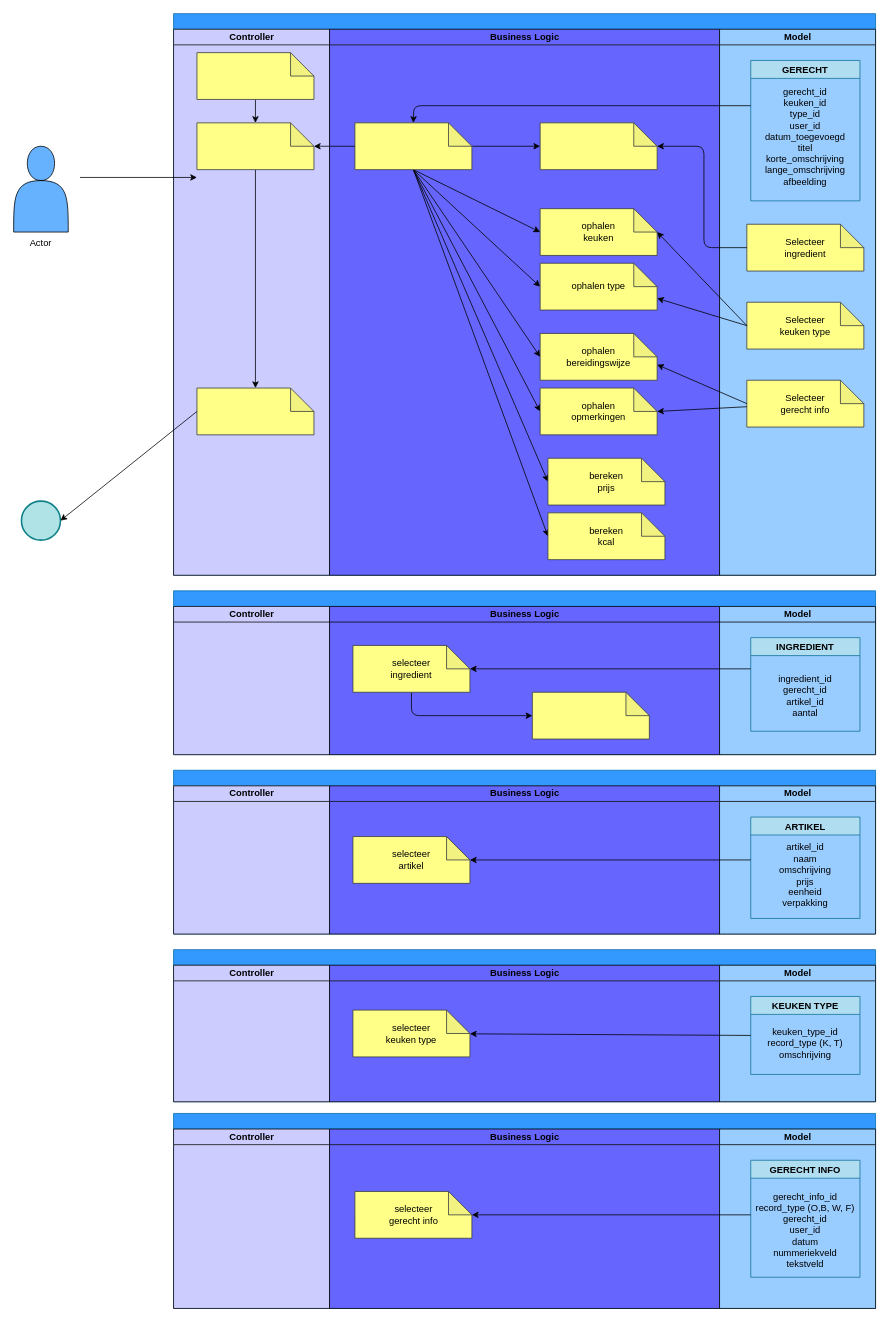
The diagram is 889 pixels wide and 1322 high, and some of its shapes have lost their labels. Each missing label, with the centre of its shape:
Initialisatie: point 255,75
ophalen artikel: point 590,715
ophalen ingredient: point 598,146
Recept ophalen: point 255,146
recept tonen: point 255,411
Selecteer gerecht: point 413,146
